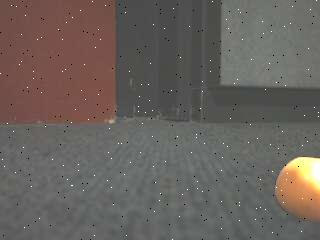Potato: (273, 152, 320, 226)
